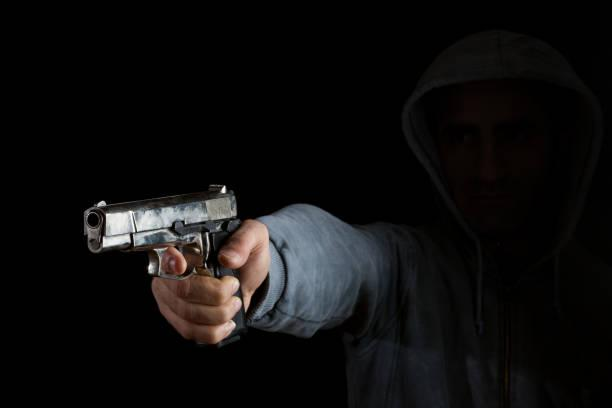weapon: (81, 179, 254, 350)
